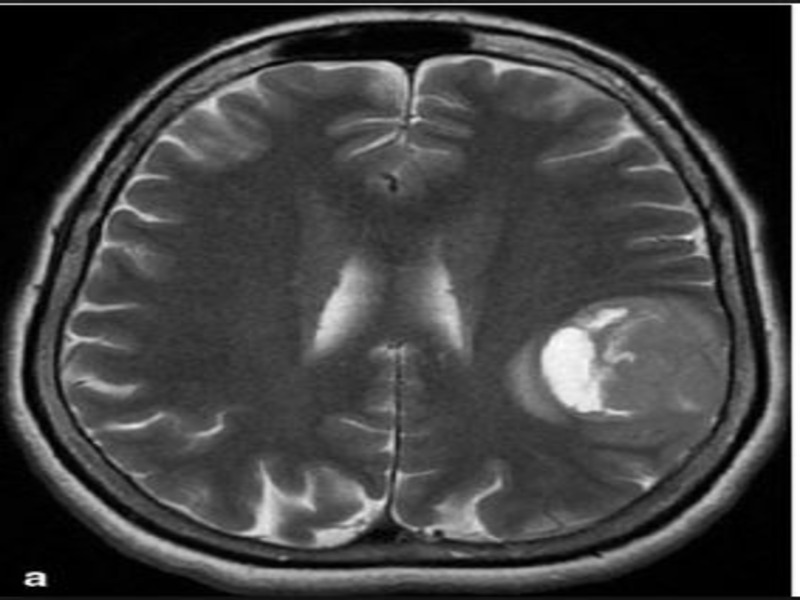tumor: (523, 289, 660, 427)
